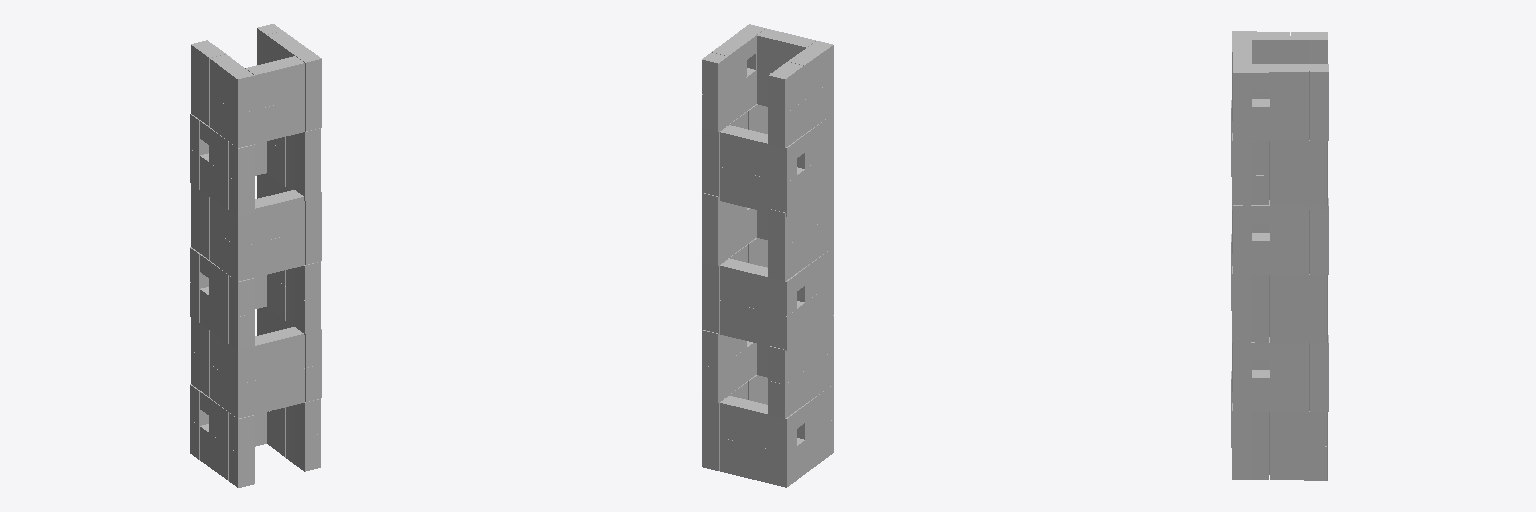
File: decoration8.obj
3 renders of one model, left to right at view 1: azimuth 30°, elevation 25°; view 2: azimuth 150°, elevation 25°; view 3: azimuth 270°, elevation 25°, orthographic.
Parts seen in each view (by area): view 1: Cube.052_Cube.013; view 2: Cube.055_Cube.019, Cube.055_Cube.016; view 3: none.
Part boxes in pixels (left/top/right/bottom): Cube.052_Cube.013: left=228, top=69, right=254, bottom=95; Cube.055_Cube.019: left=768, top=68, right=794, bottom=96; Cube.055_Cube.016: left=702, top=52, right=727, bottom=80.
Bounding box in the file's own units: 6.04 × 27.66 × 6.01.